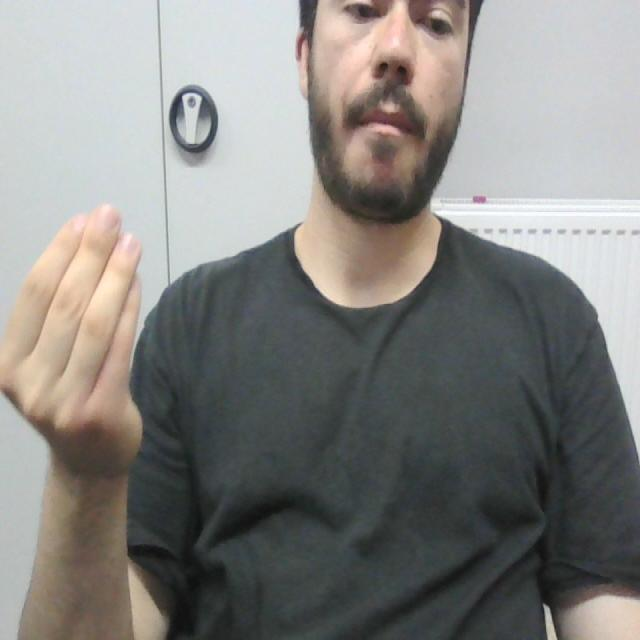iyi: (0, 210, 152, 423)
